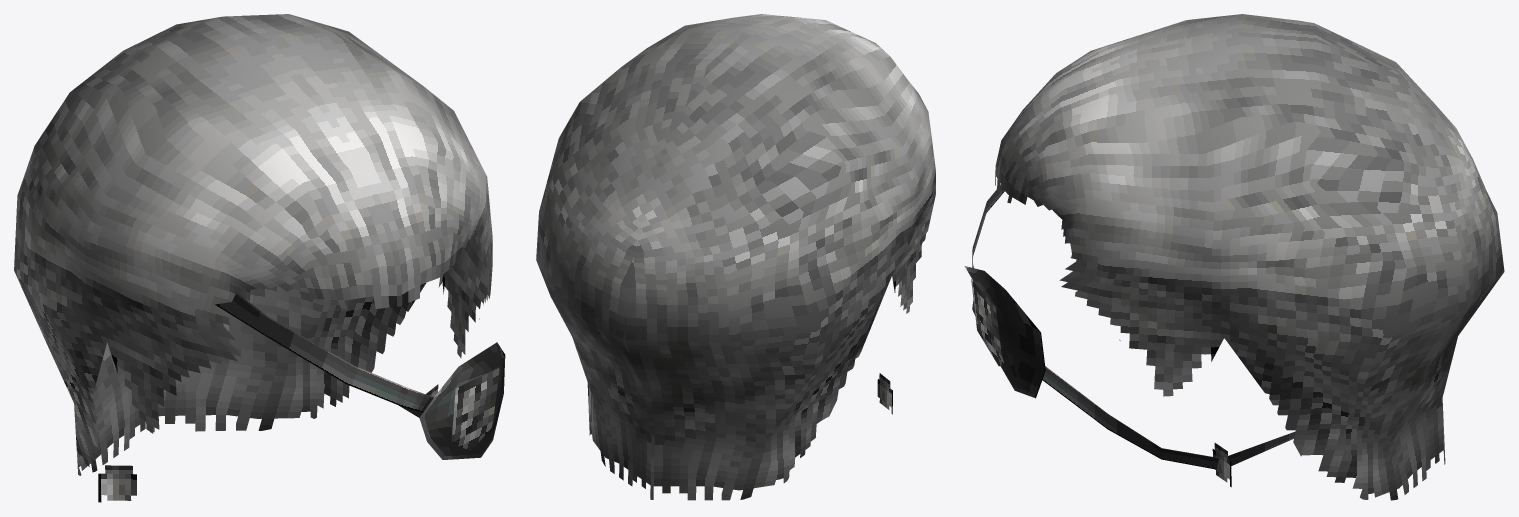
The model's file is m_hair215.glb.
The picture shows the model from 3 angles, left to right: view 1: azimuth 30°, elevation 25°; view 2: azimuth 150°, elevation 25°; view 3: azimuth 270°, elevation 25°; orthographic projection. The views are drawn at different scales.
Bounding box in the file's own units: 17.28 × 20.51 × 23.15.
1 material, 1 textured.
